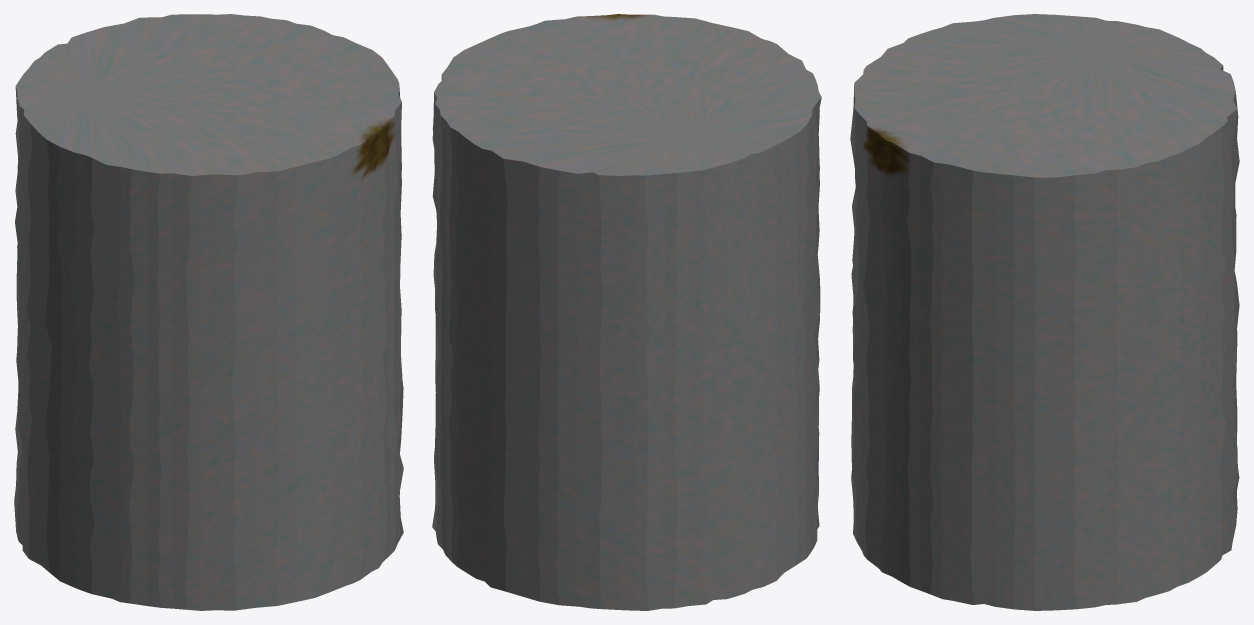
The model's file is barrel_20.dae.
3 renders of one model, left to right at view 1: azimuth 30°, elevation 25°; view 2: azimuth 150°, elevation 25°; view 3: azimuth 270°, elevation 25°, orthographic.
Visible parts, largest first — view 1: Cylinder; view 2: Cylinder; view 3: Cylinder.
Boxes of the visible parts, x1,y1,x2,y2 form: Cylinder: [14, 14, 403, 610]; Cylinder: [432, 14, 821, 610]; Cylinder: [850, 14, 1239, 610].
Size of the model in its own units: 0.814 by 0.8135 by 1.
1 material, 1 textured.
